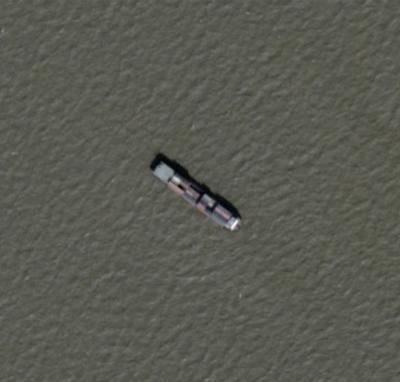Ships: (144, 149, 256, 240)
